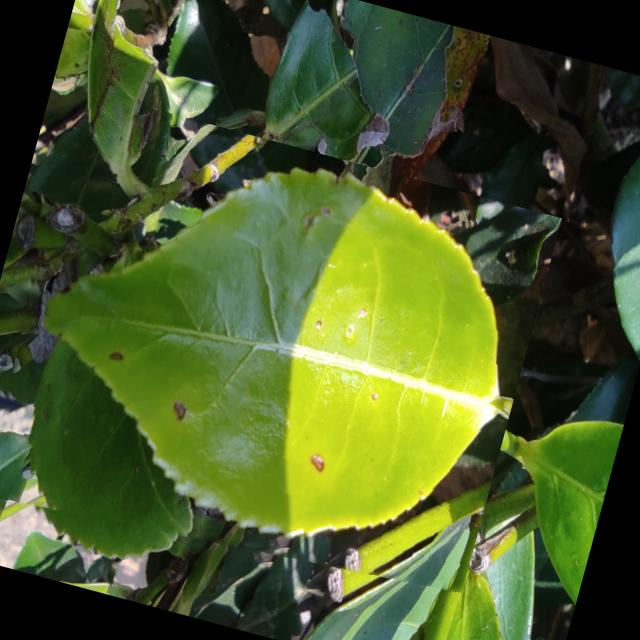Category C(4-7 days): (0, 88, 562, 620)
